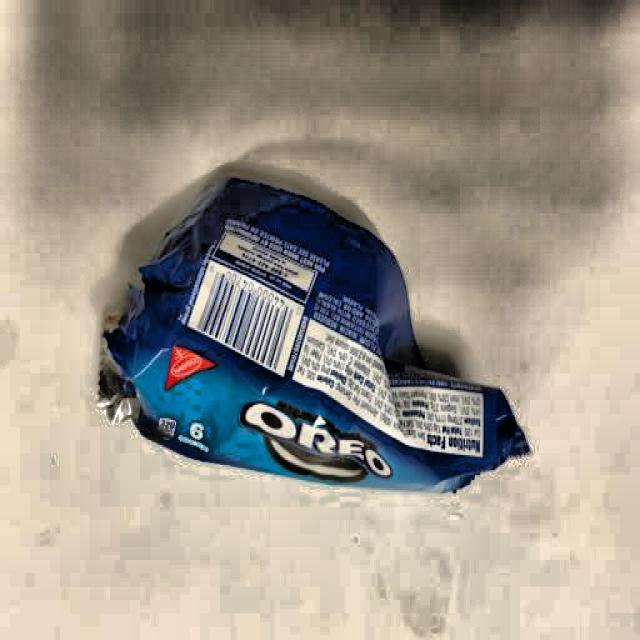trash: (100, 166, 524, 492)
